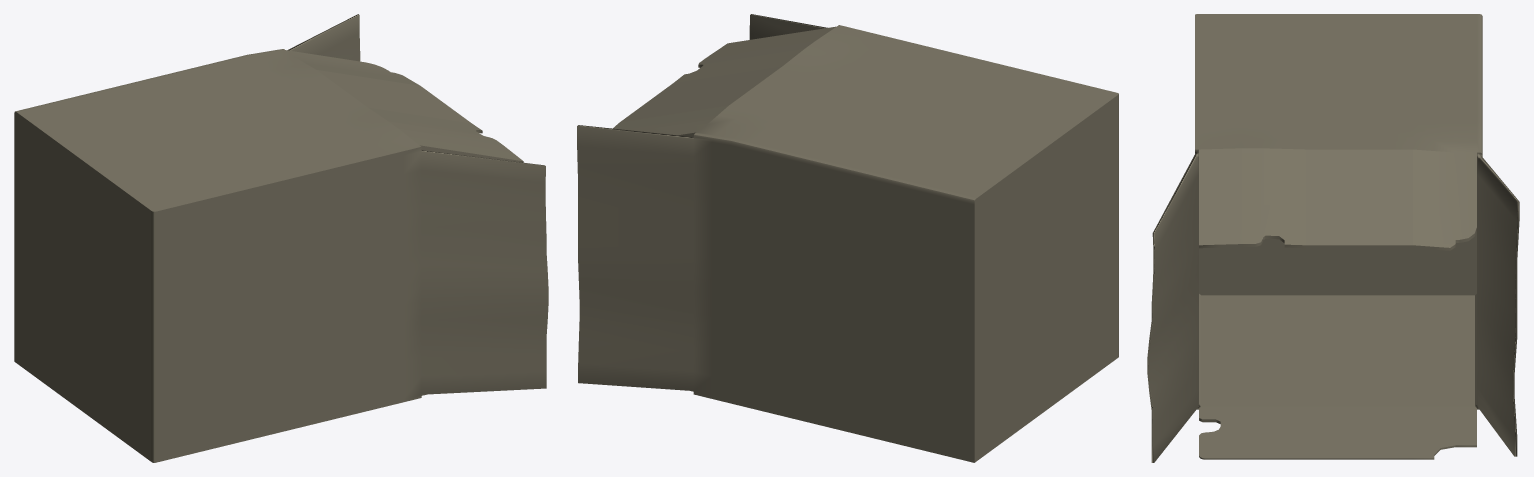
The model's file is Prop_CardboardBox.fbx.
3 views of the same model, side by side, from view 1: azimuth 30°, elevation 25°; view 2: azimuth 150°, elevation 25°; view 3: azimuth 270°, elevation 25° (orthographic). The views are drawn at different scales.
Parts seen in each view (by area): view 1: pCube1; view 2: pCube1; view 3: pCube1.
Boxes of the visible parts, box(x1,y1,x2,y2) form: pCube1: box(14, 14, 548, 462); pCube1: box(577, 14, 1118, 462); pCube1: box(1147, 14, 1519, 462).
Bounding box in the file's own units: 139 × 90.15 × 116.
